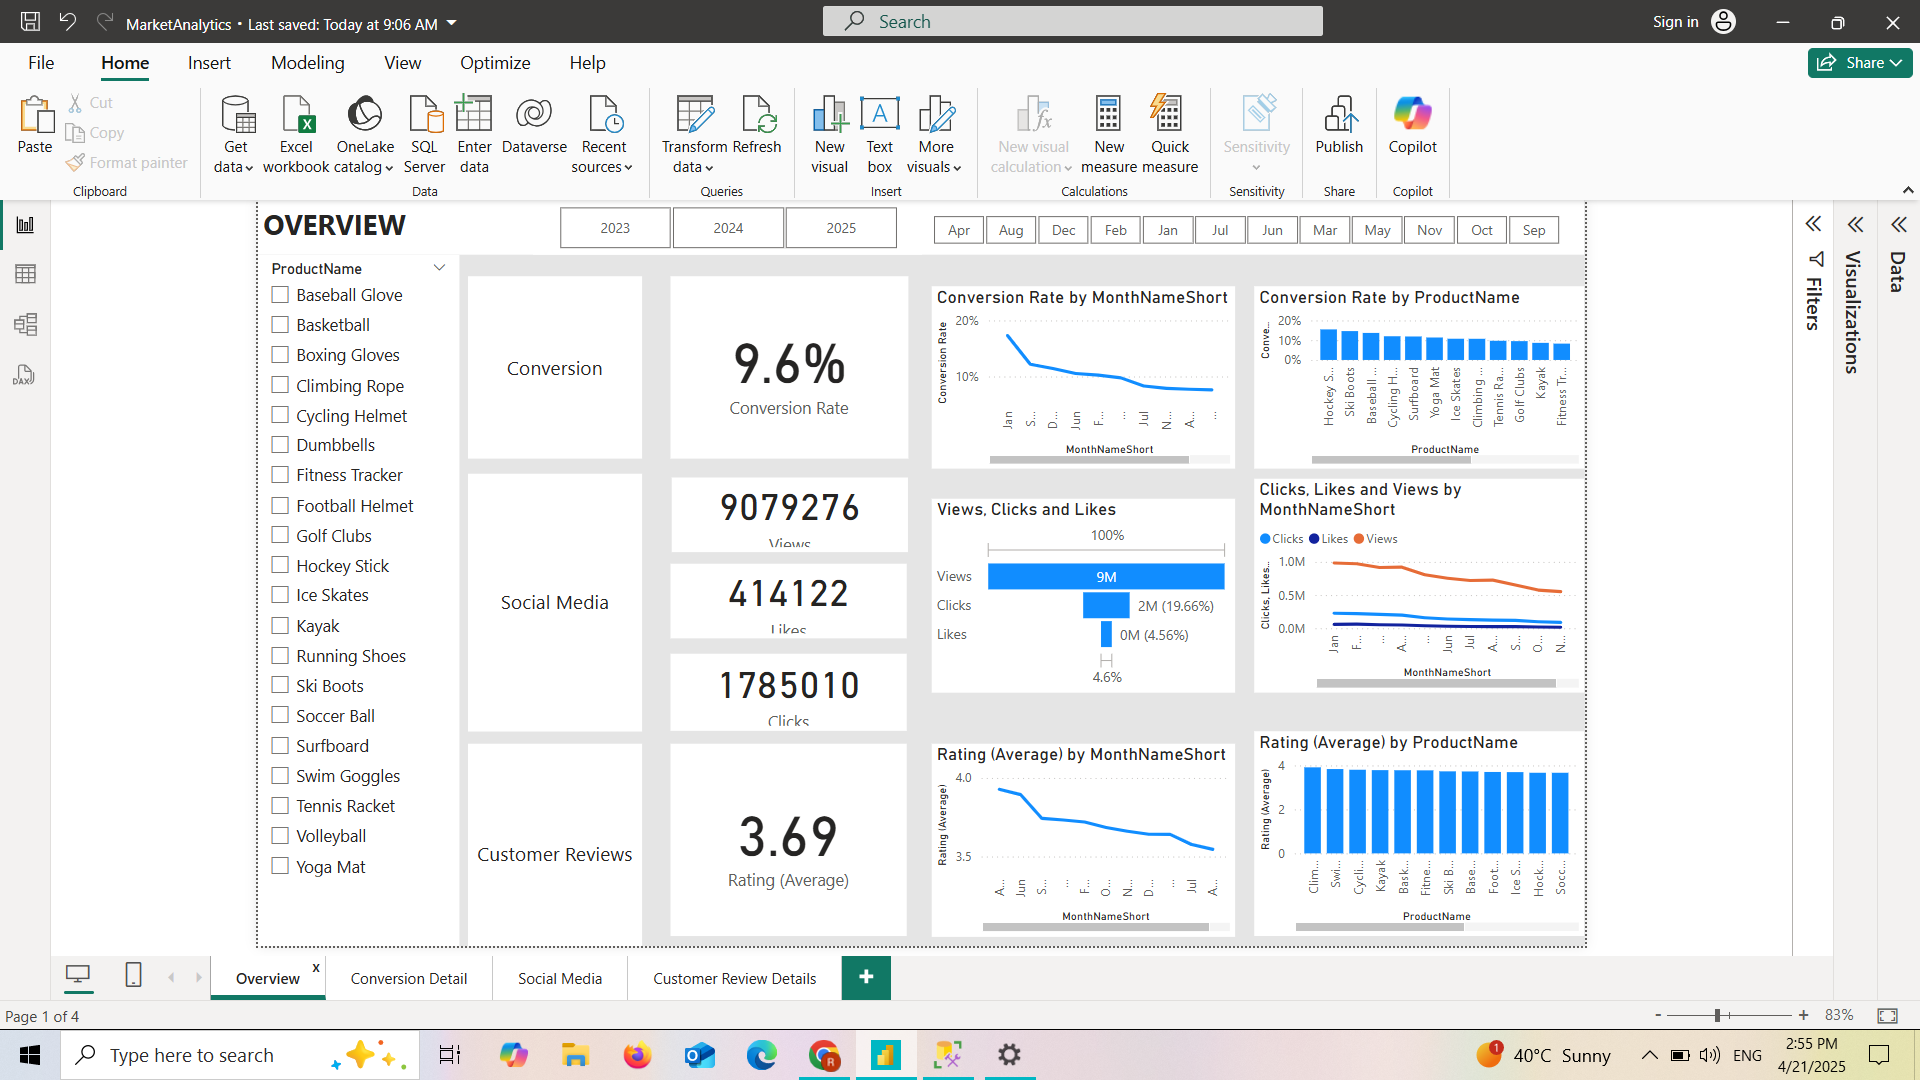

What the dashboard file says about the page in this screenshot:
{"tool":"powerbi","page":{"name":"Overview","canvas":[1280,720],"ordinal":0},"visuals":[{"type":"textbox","box":[0,0,1280,53.1],"z":0},{"type":"slicer","fields":{"Values":["dm_products.ProductName"]},"box":[0,53.1,194.2,667.2],"z":1000},{"type":"textbox","box":[202.7,73.6,167.7,176.1],"z":2000},{"type":"textbox","box":[202.7,264.2,167.7,248.5],"z":3000},{"type":"textbox","box":[202.7,524.8,167.7,195.4],"z":4000},{"type":"card","fields":{"Values":["_Calculations.Conversion Rate"]},"box":[398.1,73.6,229.2,176.1],"z":5000},{"type":"card","fields":{"Values":["_Calculations.Views"]},"box":[399.3,267.8,228,72.4],"z":6000},{"type":"card","fields":{"Values":["_Calculations.Likes"]},"box":[398.1,351.1,228,72.4],"z":7000},{"type":"card","fields":{"Values":["_Calculations.Clicks"]},"box":[398.1,437.9,228,74.8],"z":8000},{"type":"card","fields":{"Values":["_Calculations.Rating (Average)"]},"box":[398.1,524.8,228,185.8],"z":9000},{"type":"slicer","fields":{"Values":["Calendar.Year"]},"box":[265.4,0,375.2,53.1],"z":10000},{"type":"slicer","fields":{"Values":["Calendar.MonthNameShort"]},"box":[626.1,8.4,653.9,36.2],"z":11000},{"type":"clusteredColumnChart","fields":{"Category":["dm_products.ProductName"],"Y":["_Calculations.Conversion Rate"]},"box":[961.5,83.2,318.5,176.1],"z":12000},{"type":"lineChart","fields":{"Y":["_Calculations.Conversion Rate"],"Category":["Calendar.MonthNameShort"]},"box":[650.3,83.2,293.2,176.1],"z":13000},{"type":"lineChart","fields":{"Category":["Calendar.MonthNameShort"],"Y":["_Calculations.Clicks","_Calculations.Likes","_Calculations.Views"]},"box":[961.5,269,318.5,206.3],"z":14000},{"type":"funnel","fields":{"Y":["_Calculations.Views","_Calculations.Clicks","_Calculations.Likes"]},"box":[650.3,288.3,293.2,187],"z":15000},{"type":"lineChart","fields":{"Category":["Calendar.MonthNameShort"],"Y":["_Calculations.Rating (Average)"]},"box":[650,525,293,186],"z":16000},{"type":"clusteredColumnChart","fields":{"Category":["dm_products.ProductName"],"Y":["_Calculations.Rating (Average)"]},"box":[961.5,512.7,318.5,197.9],"z":17000}]}

Visuals, with their boxes on the page's 1280x720 design canvas (x1, y1, x2, y2). These are canvas units, not pixel positions in the 1920x1080 screenshot, which may show the page scaled, cropped or inside an application window:
textbox: crop(0, 0, 1280, 53)
slicer - dm_products.ProductName: crop(0, 53, 194, 720)
textbox: crop(203, 74, 370, 250)
textbox: crop(203, 264, 370, 513)
textbox: crop(203, 525, 370, 720)
card - _Calculations.Conversion Rate: crop(398, 74, 627, 250)
card - _Calculations.Views: crop(399, 268, 627, 340)
card - _Calculations.Likes: crop(398, 351, 626, 424)
card - _Calculations.Clicks: crop(398, 438, 626, 513)
card - _Calculations.Rating (Average): crop(398, 525, 626, 711)
slicer - Calendar.Year: crop(265, 0, 641, 53)
slicer - Calendar.MonthNameShort: crop(626, 8, 1280, 45)
clusteredColumnChart - dm_products.ProductName x _Calculations.Conversion Rate: crop(962, 83, 1280, 259)
lineChart - _Calculations.Conversion Rate x Calendar.MonthNameShort: crop(650, 83, 944, 259)
lineChart - Calendar.MonthNameShort x _Calculations.Clicks: crop(962, 269, 1280, 475)
funnel - _Calculations.Views x _Calculations.Clicks: crop(650, 288, 944, 475)
lineChart - Calendar.MonthNameShort x _Calculations.Rating (Average): crop(650, 525, 943, 711)
clusteredColumnChart - dm_products.ProductName x _Calculations.Rating (Average): crop(962, 513, 1280, 711)
